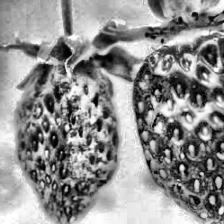Gray Mold: (14, 56, 120, 224)
